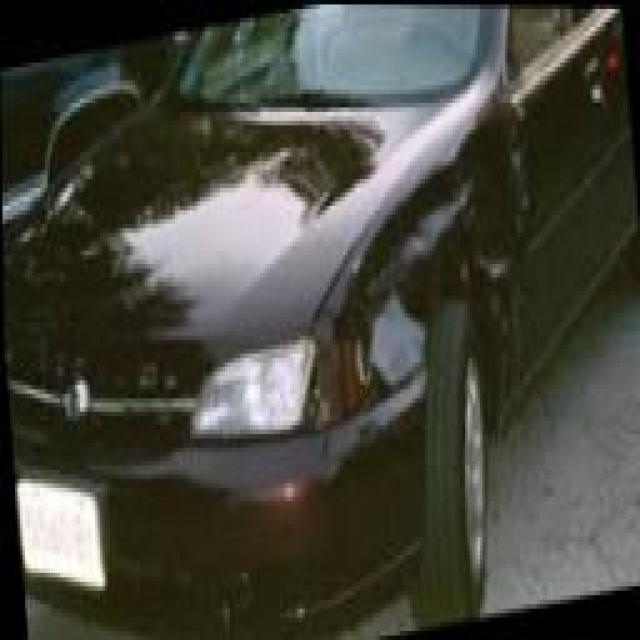Fender: (319, 99, 538, 429)
